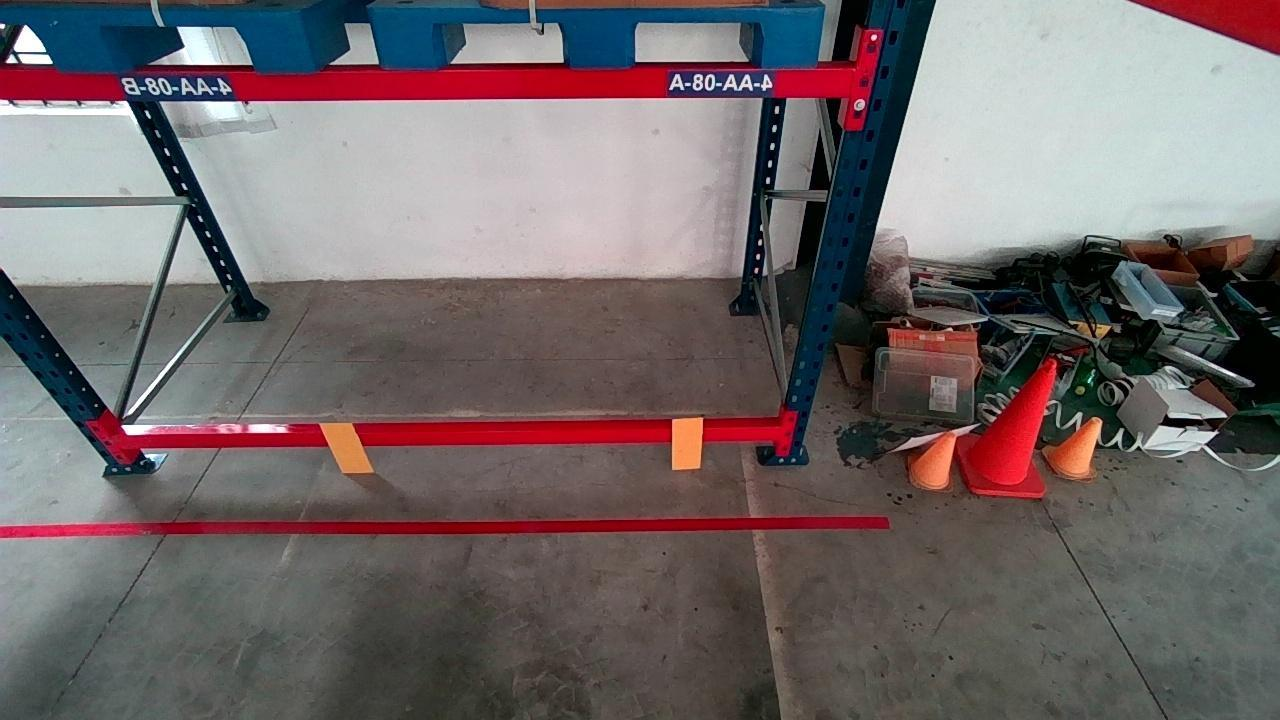h_rack: (10, 54, 843, 106), (125, 418, 772, 452)
orange_strip: (321, 422, 374, 473), (672, 416, 704, 468)
red_line: (7, 506, 886, 545)
small_pallet: (379, 1, 827, 67), (3, 6, 310, 70)
